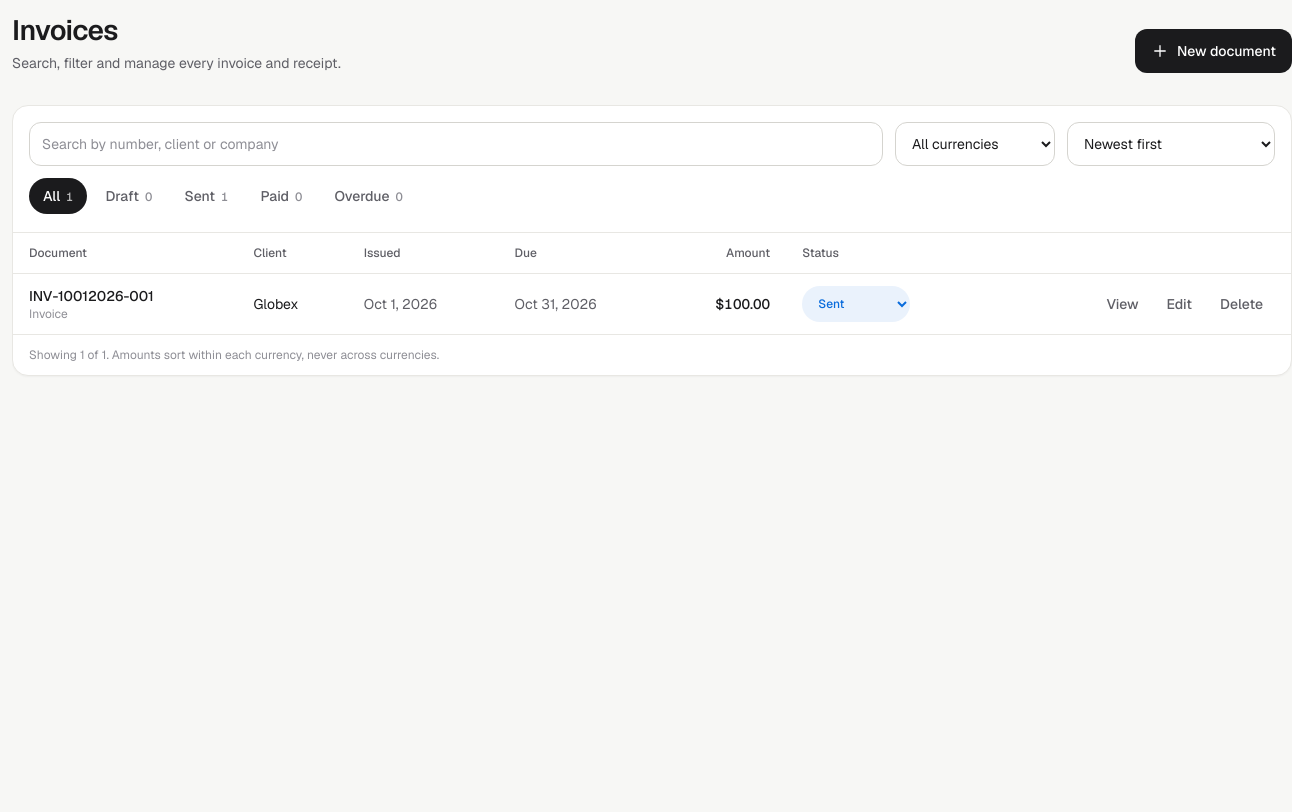
Test: InvoiceListView › changes status and confirms with a toast
Select "Paid" in the dropdown named "Status of" at (856, 304), box 802,286 -> 910,322
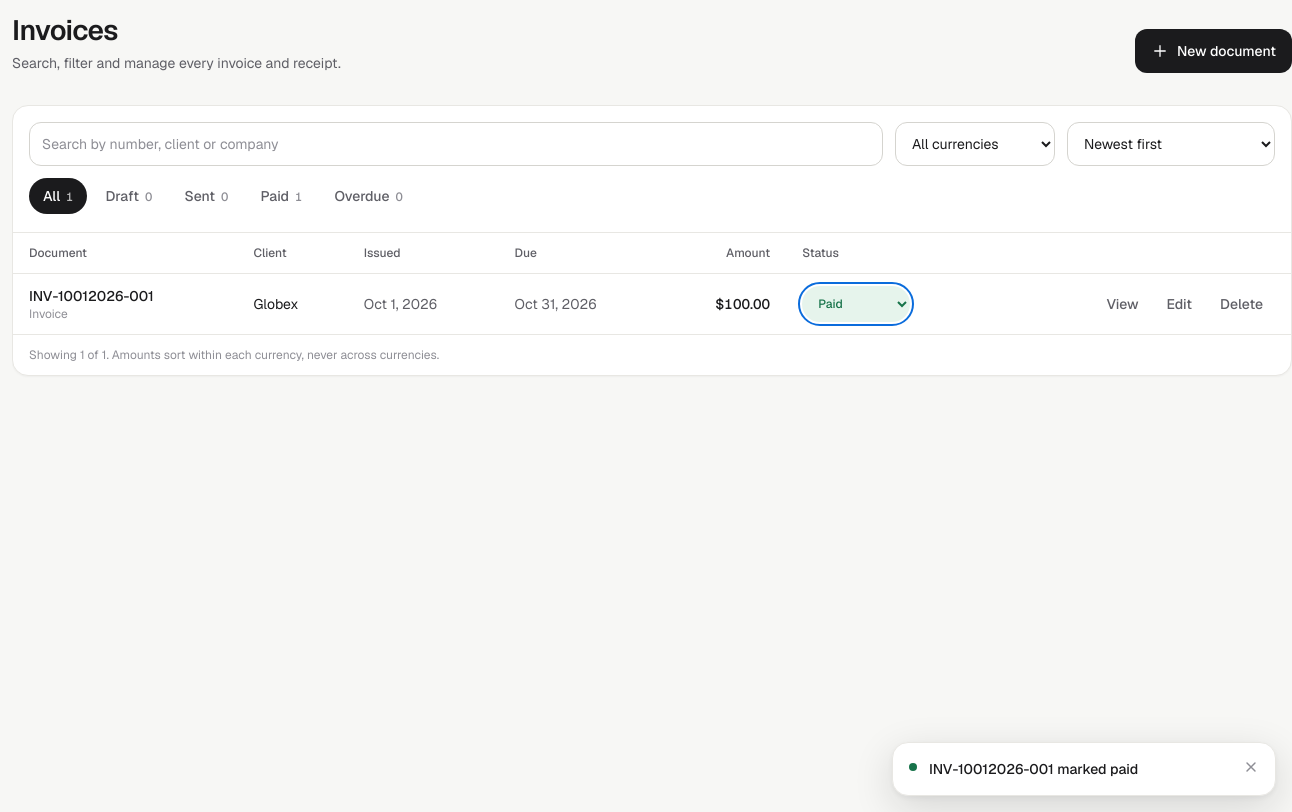
expect the text "INV-10012026-001 marked paid" is shown: met, box 929,760 -> 1138,778
